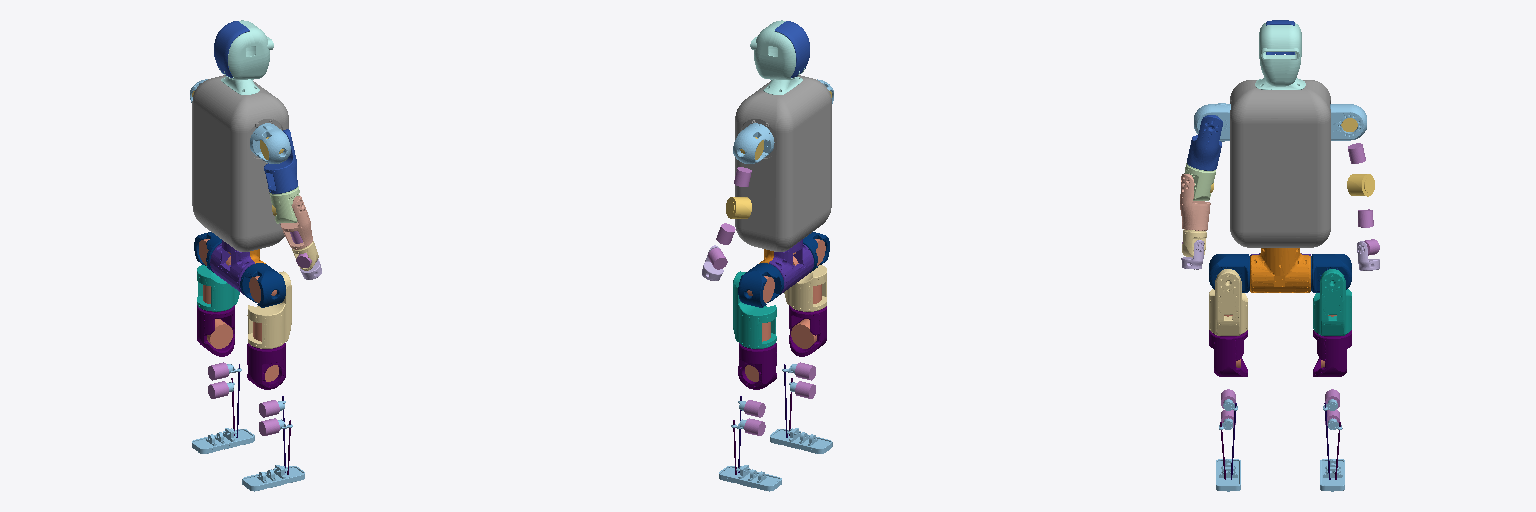
--- What the picture shows (computed from the rendered views, not written in the file) ---
3 views of the same robot in one strip: view 1: azimuth 30°, elevation 25°; view 2: azimuth 150°, elevation 25°; view 3: azimuth 270°, elevation 25° (orthographic).
Model robot_harambe_v0.3 with 26 links and 25 joints (25 revolute), rooted at urdf_base, posed every joint at zero.
Links seen in each view (by area): view 1: urdf_simplified_torso, urdf_r_upper_femur_assemby, urdf_lower_femur_assembly, urdf_hip_assembly_2, urdf_lower_femur_assembly_2, urdf_l_upper_femur_assembly, urdf_base, urdf_r_shoulder_assembly, urdf_r_upper_arm_assembly, urdf_r_upper_forearm_assembly, urdf_foot_assembly_2, urdf_foot_assembly (+4 smaller); view 2: urdf_simplified_torso, urdf_l_upper_femur_assembly, urdf_lower_femur_assembly_2, urdf_hip_assembly, urdf_lower_femur_assembly, urdf_r_upper_femur_assemby, urdf_base, urdf_l_shoulder_assembly, urdf_foot_assembly, urdf_foot_assembly_2, urdf_r_tibia_assembly, urdf_l_tibia_assembly (+1 smaller); view 3: urdf_simplified_torso, urdf_base, urdf_r_upper_femur_assemby, urdf_l_upper_femur_assembly, urdf_r_upper_arm_assembly, urdf_lower_femur_assembly_2, urdf_lower_femur_assembly, urdf_l_shoulder_assembly, urdf_r_upper_forearm_assembly, urdf_hip_assembly, urdf_hip_assembly_2, urdf_l_tibia_assembly (+6 smaller).
Link boxes in pixels (bbox=[...]): urdf_simplified_torso: bbox=[192, 20, 288, 251]; urdf_r_upper_femur_assemby: bbox=[247, 271, 291, 348]; urdf_lower_femur_assembly: bbox=[197, 305, 234, 356]; urdf_hip_assembly_2: bbox=[240, 263, 285, 307]; urdf_lower_femur_assembly_2: bbox=[247, 343, 285, 389]; urdf_l_upper_femur_assembly: bbox=[197, 265, 239, 311]; urdf_base: bbox=[210, 240, 265, 294]; urdf_r_shoulder_assembly: bbox=[250, 123, 290, 163]; urdf_r_upper_arm_assembly: bbox=[264, 129, 297, 193]; urdf_r_upper_forearm_assembly: bbox=[280, 196, 312, 249]; urdf_foot_assembly_2: bbox=[242, 465, 304, 491]; urdf_foot_assembly: bbox=[192, 428, 254, 453]; urdf_simplified_torso: bbox=[735, 20, 831, 251]; urdf_l_upper_femur_assembly: bbox=[733, 271, 776, 348]; urdf_lower_femur_assembly_2: bbox=[789, 305, 826, 356]; urdf_hip_assembly: bbox=[738, 263, 783, 307]; urdf_lower_femur_assembly: bbox=[738, 343, 776, 389]; urdf_r_upper_femur_assemby: bbox=[784, 265, 826, 311]; urdf_base: bbox=[759, 239, 813, 294]; urdf_l_shoulder_assembly: bbox=[733, 123, 774, 163]; urdf_foot_assembly: bbox=[719, 465, 781, 491]; urdf_foot_assembly_2: bbox=[770, 428, 832, 453]; urdf_r_tibia_assembly: bbox=[782, 362, 815, 437]; urdf_l_tibia_assembly: bbox=[731, 396, 765, 474]; urdf_simplified_torso: bbox=[1230, 20, 1330, 247]; urdf_base: bbox=[1250, 248, 1310, 292]; urdf_r_upper_femur_assemby: bbox=[1209, 269, 1247, 335]; urdf_l_upper_femur_assembly: bbox=[1313, 269, 1351, 335]; urdf_r_upper_arm_assembly: bbox=[1187, 115, 1222, 170]; urdf_lower_femur_assembly_2: bbox=[1209, 330, 1247, 376]; urdf_lower_femur_assembly: bbox=[1313, 330, 1351, 376]; urdf_l_shoulder_assembly: bbox=[1330, 104, 1366, 140]; urdf_r_upper_forearm_assembly: bbox=[1180, 174, 1210, 230]; urdf_hip_assembly: bbox=[1311, 254, 1351, 292]; urdf_hip_assembly_2: bbox=[1209, 254, 1249, 292]; urdf_l_tibia_assembly: bbox=[1323, 389, 1342, 479].
Size in the robot's own frame: 0.2769 by 0.7097 by 1.77 metres.
52 mesh visuals loaded from 31 distinct referenced files (24 binary STL); not drawn: 8 (reference not matched to a file when rendering).

robot.urdf — robot_harambe_v0.3:
<?xml version='1.0' encoding='utf-8'?>
<robot name="robot_harambe_v0.3">
  <link name="urdf_base">
    <inertial>
      <origin xyz="0.0334604 -0.000699269 -0.431702" rpy="0 0 0" />
      <mass value="5.132" />
      <inertia ixx="0.0288848" ixy="2.35276e-07" ixz="-2.88595e-05" iyy="0.0213139" iyz="-6.5838e-06" izz="0.0155352" />
    </inertial>
    <visual>
      <origin xyz="0.0333787 0.0103011 -0.467748" rpy="-1.5708 0.785398 0" />
      <geometry>
        <mesh filename="package://assets/stator_x8_p20_120_unified.stl" />
      </geometry>
      <material name="stator_x8_p20_120_unified_material">
        <color rgba="0.882353 0.572549 0.478431 1" />
      </material>
    </visual>
    <collision>
      <origin xyz="0.0333787 0.0103011 -0.467748" rpy="-1.5708 0.785398 0" />
      <geometry>
        <mesh filename="package://assets/stator_x8_p20_120_unified.stl" />
      </geometry>
    </collision>
    <visual>
      <origin xyz="-0.00271429 -0.000697952 -0.432504" rpy="0 0 -1.5708" />
      <geometry>
        <mesh filename="package://assets/b_base.stl" />
      </geometry>
      <material name="b_base_material">
        <color rgba="0.368627 0.25098 0.643137 1" />
      </material>
    </visual>
    <collision>
      <origin xyz="-0.00271429 -0.000697952 -0.432504" rpy="0 0 -1.5708" />
      <geometry>
        <mesh filename="package://assets/b_base.stl" />
      </geometry>
    </collision>
    <visual>
      <origin xyz="0.0333787 -0.0116989 -0.467748" rpy="1.5708 -0.785398 0" />
      <geometry>
        <mesh filename="package://assets/stator_x8_p20_120_unified.stl" />
      </geometry>
      <material name="stator_x8_p20_120_unified_2_material">
        <color rgba="0.882353 0.572549 0.478431 1" />
      </material>
    </visual>
    <collision>
      <origin xyz="0.0333787 -0.0116989 -0.467748" rpy="1.5708 -0.785398 0" />
      <geometry>
        <mesh filename="package://assets/stator_x8_p20_120_unified.stl" />
      </geometry>
    </collision>
    <visual>
      <origin xyz="0.0333787 -0.000698852 -0.396748" rpy="0 0 -1.5708" />
      <geometry>
        <mesh filename="package://assets/stator_x8_p20_120_unified.stl" />
      </geometry>
      <material name="stator_x8_p20_120_unified_3_material">
        <color rgba="0.882353 0.572549 0.478431 1" />
      </material>
    </visual>
    <collision>
      <origin xyz="0.0333787 -0.000698852 -0.396748" rpy="0 0 -1.5708" />
      <geometry>
        <mesh filename="package://assets/stator_x8_p20_120_unified.stl" />
      </geometry>
    </collision>
    <visual>
      <origin xyz="0.070373 -0.000705351 -0.431099" rpy="0 0 -1.5708" />
      <geometry>
        <mesh filename="package://assets/f_base.stl" />
      </geometry>
      <material name="f_base_material">
        <color rgba="0.909804 0.572549 0.164706 1" />
      </material>
    </visual>
    <collision>
      <origin xyz="0.070373 -0.000705351 -0.431099" rpy="0 0 -1.5708" />
      <geometry>
        <mesh filename="package://assets/f_base.stl" />
      </geometry>
    </collision>
  </link>
  <link name="urdf_simplified_torso">
    <inertial>
      <origin xyz="0.00199118 -4.1776e-05 0.327574" rpy="0 0 0" />
      <mass value="5.9" />
      <inertia ixx="0.320832" ixy="5.08517e-07" ixz="-0.00443482" iyy="0.294153" iyz="9.68158e-05" izz="0.076931" />
    </inertial>
    <visual>
      <origin xyz="0 0 0.26095" rpy="0 0 -1.5708" />
      <geometry>
        <mesh filename="package://assets/urdf_simplified_torso.stl" />
      </geometry>
      <material name="urdf_simplified_torso_material">
        <color rgba="0.647059 0.647059 0.647059 1" />
      </material>
    </visual>
    <collision>
      <origin xyz="0 0 0.26095" rpy="0 0 -1.5708" />
      <geometry>
        <mesh filename="package://assets/urdf_simplified_torso.stl" />
      </geometry>
    </collision>
    <visual>
      <origin xyz="4.03711e-05 -0.000382221 0.67095" rpy="0 0 -1.5708" />
      <geometry>
        <mesh filename="package://assets/head.stl" />
      </geometry>
      <material name="head_material">
        <color rgba="0.737255 0.937255 0.917647 1" />
      </material>
    </visual>
    <collision>
      <origin xyz="4.03711e-05 -0.000382221 0.67095" rpy="0 0 -1.5708" />
      <geometry>
        <mesh filename="package://assets/head.stl" />
      </geometry>
    </collision>
    <visual>
      <origin xyz="4.03711e-05 -0.000382221 0.672878" rpy="0 0 -1.5708" />
      <geometry>
        <mesh filename="package://assets/back_access.stl" />
      </geometry>
      <material name="back_access_material">
        <color rgba="0.231373 0.380392 0.705882 1" />
      </material>
    </visual>
    <collision>
      <origin xyz="4.03711e-05 -0.000382221 0.672878" rpy="0 0 -1.5708" />
      <geometry>
        <mesh filename="package://assets/back_access.stl" />
      </geometry>
    </collision>
  </link>
  <link name="urdf_l_shoulder_assembly">
    <inertial>
      <origin xyz="-0.00409836 0.0631966 -0.000544496" rpy="0 0 0" />
      <mass value="1.246" />
      <inertia ixx="0.00205876" ixy="-3.48871e-05" ixz="4.11941e-05" iyy="0.00152408" iyz="-7.63836e-06" izz="0.00171602" />
    </inertial>
    <visual>
      <origin xyz="-0.00129022 0.0502746 -0.000165436" rpy="0.122174 0 -1.5708" />
      <geometry>
        <mesh filename="package://assets/l_shoulder.stl" />
      </geometry>
      <material name="l_shoulder_material">
        <color rgba="0.615686 0.811765 0.929412 1" />
      </material>
    </visual>
    <collision>
      <origin xyz="-0.00129022 0.0502746 -0.000165436" rpy="0.122174 0 -1.5708" />
      <geometry>
        <mesh filename="package://assets/l_shoulder.stl" />
      </geometry>
    </collision>
    <visual>
      <origin xyz="-0.038213 0.07 -0.00469197" rpy="-1.44862 0 -1.5708" />
      <geometry>
        <mesh filename="package://assets/stator_x6_p20_60_unified.stl" />
      </geometry>
      <material name="stator_x6_p20_60_unified_material">
        <color rgba="0.960784 0.835294 0.470588 1" />
      </material>
    </visual>
    <collision>
      <origin xyz="-0.038213 0.07 -0.00469197" rpy="-1.44862 0 -1.5708" />
      <geometry>
        <mesh filename="package://assets/stator_x6_p20_60_unified.stl" />
      </geometry>
    </collision>
  </link>
  <link name="urdf_l_upper_arm_assembly">
    <inertial>
      <origin xyz="-0.0354438 0.0213179 -0.103332" rpy="0 0 0" />
      <mass value="0.802" />
      <inertia ixx="0.00190836" ixy="8.88394e-05" ixz="-0.000467525" iyy="0.00203106" iyz="0.000183108" izz="0.00107639" />
    </inertial>
    <visual>
      <origin xyz="-0.0268697 0.0182146 -0.0914677" rpy="0.149185 0.147548 -0.774352" />
      <geometry>
        <mesh filename="package://assets/urdf_l_upper_arm_simplified.stl" />
      </geometry>
      <material name="urdf_l_upper_arm_simplified_material">
        <color rgba="0.917647 0.917647 0.917647 1" />
      </material>
    </visual>
    <collision>
      <origin xyz="-0.0268697 0.0182146 -0.0914677" rpy="0.149185 0.147548 -0.774352" />
      <geometry>
        <mesh filename="package://assets/urdf_l_upper_arm_simplified.stl" />
      </geometry>
    </collision>
    <visual>
      <origin xyz="-0.046 0.0189197 -0.0890115" rpy="2.99241 0.147548 -2.36724" />
      <geometry>
        <mesh filename="package://assets/stator_x4_p36_36_unified.stl" />
      </geometry>
      <material name="stator_x4_p36_36_unified_material">
        <color rgba="0.764706 0.545098 0.803922 1" />
      </material>
    </visual>
    <collision>
      <origin xyz="-0.046 0.0189197 -0.0890115" rpy="2.99241 0.147548 -2.36724" />
      <geometry>
        <mesh filename="package://assets/stator_x4_p36_36_unified.stl" />
      </geometry>
    </collision>
  </link>
  <link name="urdf_l_elbow_assembly">
    <inertial>
      <origin xyz="-0.00454375 -0.00631726 -0.0710681" rpy="0 0 0" />
      <mass value="1.109" />
      <inertia ixx="0.00144951" ixy="5.63858e-05" ixz="-2.92807e-05" iyy="0.00147477" iyz="-7.46143e-05" izz="0.00113761" />
    </inertial>
    <visual>
      <origin xyz="-0.0243093 -0.036675 -0.075" rpy="-1.57079 1.57079 -0.585342" />
      <geometry>
        <mesh filename="package://assets/stator_x6_p20_60_unified.stl" />
      </geometry>
      <material name="stator_x6_p20_60_unified_2_material">
        <color rgba="0.960784 0.835294 0.470588 1" />
      </material>
    </visual>
    <collision>
      <origin xyz="-0.0243093 -0.036675 -0.075" rpy="-1.57079 1.57079 -0.585342" />
      <geometry>
        <mesh filename="package://assets/stator_x6_p20_60_unified.stl" />
      </geometry>
    </collision>
    <visual>
      <origin xyz="-0.00676793 -0.0102107 -0.075" rpy="1.57079 1.57079 -0.585342" />
      <geometry>
        <mesh filename="package://assets/urdf_l_elbow_simplified.stl" />
      </geometry>
      <material name="urdf_l_elbow_simplified_material">
        <color rgba="0.231373 0.380392 0.705882 1" />
      </material>
    </visual>
    <collision>
      <origin xyz="-0.00676793 -0.0102107 -0.075" rpy="1.57079 1.57079 -0.585342" />
      <geometry>
        <mesh filename="package://assets/urdf_l_elbow_simplified.stl" />
      </geometry>
    </collision>
  </link>
  <link name="urdf_l_upper_forearm_assembly">
    <inertial>
      <origin xyz="0.0267134 -0.0286559 -0.0999185" rpy="0 0 0" />
      <mass value="0.707" />
      <inertia ixx="0.00162524" ixy="9.29314e-05" ixz="0.000226907" iyy="0.00146156" iyz="-0.000353662" izz="0.000776912" />
    </inertial>
    <visual>
      <origin xyz="0.0285993 -0.035 -0.115512" rpy="0.242706 0 -1.5708" />
      <geometry>
        <mesh filename="package://assets/urdf_l_upper_forearm_simplified.stl" />
      </geometry>
      <material name="urdf_l_upper_forearm_simplified_material">
        <color rgba="0.498039 0.498039 0.498039 1" />
      </material>
    </visual>
    <collision>
      <origin xyz="0.0285993 -0.035 -0.115512" rpy="0.242706 0 -1.5708" />
      <geometry>
        <mesh filename="package://assets/urdf_l_upper_forearm_simplified.stl" />
      </geometry>
    </collision>
    <visual>
      <origin xyz="0.0216297 -0.035 -0.0873622" rpy="-2.89888 0 -1.5708" />
      <geometry>
        <mesh filename="package://assets/stator_x4_p36_36_unified.stl" />
      </geometry>
      <material name="stator_x4_p36_36_unified_2_material">
        <color rgba="0.764706 0.545098 0.803922 1" />
      </material>
    </visual>
    <collision>
      <origin xyz="0.0216297 -0.035 -0.0873622" rpy="-2.89888 0 -1.5708" />
      <geometry>
        <mesh filename="package://assets/stator_x4_p36_36_unified.stl" />
      </geometry>
    </collision>
  </link>
  <link name="urdf_l_lower_forearm_assembly">
    <inertial>
      <origin xyz="-0.00311766 0.00307025 -0.0515634" rpy="0 0 0" />
      <mass value="0.618" />
      <inertia ixx="0.000628386" ixy="-1.68352e-06" ixz="-2.8195e-05" iyy="0.000617293" iyz="-3.24976e-07" izz="0.000448744" />
    </inertial>
    <visual>
      <origin xyz="-0.00732538 0.00522865 -0.0615" rpy="-1.5708 0 0.95089" />
      <geometry>
        <mesh filename="package://assets/urdf_l_lower_forearm_simplified.stl" />
      </geometry>
      <material name="urdf_l_lower_forearm_simplified_material">
        <color rgba="0.980392 0.713725 0.00392157 1" />
      </material>
    </visual>
    <collision>
      <origin xyz="-0.00732538 0.00522865 -0.0615" rpy="-1.5708 0 0.95089" />
      <geometry>
        <mesh filename="package://assets/urdf_l_lower_forearm_simplified.stl" />
      </geometry>
    </collision>
    <visual>
      <origin xyz="-0.0305224 0.021786 -0.0615" rpy="1.5708 0 0.95089" />
      <geometry>
        <mesh filename="package://assets/stator_x4_p36_36_unified.stl" />
      </geometry>
      <material name="stator_x4_p36_36_unified_3_material">
        <color rgba="0.764706 0.545098 0.803922 1" />
      </material>
    </visual>
    <collision>
      <origin xyz="-0.0305224 0.021786 -0.0615" rpy="1.5708 0 0.95089" />
      <geometry>
        <mesh filename="package://assets/stator_x4_p36_36_unified.stl" />
      </geometry>
    </collision>
  </link>
  <link name="urdf_l_wrist_assembly">
    <inertial>
      <origin xyz="-0.0219307 0.0106848 -0.0421315" rpy="0 0 0" />
      <mass value="0.098" />
      <inertia ixx="0.000100785" ixy="8.2018e-06" ixz="-3.23731e-05" iyy="0.000121426" iyz="6.79903e-06" izz="9.63529e-05" />
    </inertial>
    <visual>
      <origin xyz="-0.0219314 0.0106848 -0.0421315" rpy="0 0.248271 -1.5708" />
      <geometry>
        <mesh filename="package://assets/l_wrist.stl" />
      </geometry>
      <material name="l_wrist_material">
        <color rgba="0.8 0.74902 0.913725 1" />
      </material>
    </visual>
    <collision>
      <origin xyz="-0.0219314 0.0106848 -0.0421315" rpy="0 0.248271 -1.5708" />
      <geometry>
        <mesh filename="package://assets/l_wrist.stl" />
      </geometry>
    </collision>
  </link>
  <joint name="left_wrist_roll_joint_X4" type="revolute">
    <origin xyz="0.0219762 -0.0156859 -0.0615" rpy="-0.248271 0 -0.619909" />
    <parent link="urdf_l_lower_forearm_assembly" />
    <child link="urdf_l_wrist_assembly" />
    <axis xyz="1 0 0" />
    <limit effort="10" velocity="10" lower="-1.5708" upper="1.5708" />
  </joint>
  <joint name="left_wrist_yaw_joint_X4" type="revolute">
    <origin xyz="0.0391738 -0.035 -0.158223" rpy="-0.142861 -0.19688 0.634041" />
    <parent link="urdf_l_upper_forearm_assembly" />
    <child link="urdf_l_lower_forearm_assembly" />
    <axis xyz="0 0 1" />
    <limit effort="10" velocity="10" lower="-2.35619" upper="2.35619" />
  </joint>
  <joint name="left_elbow_pitch_joint_X6" type="revolute">
    <origin xyz="0.019337 0.0291733 -0.075" rpy="0 -0.0190902 -0.585348" />
    <parent link="urdf_l_elbow_assembly" />
    <child link="urdf_l_upper_forearm_assembly" />
    <axis xyz="0 1 0" />
    <limit effort="10" velocity="10" lower="-1.309" upper="1.8326" />
  </joint>
  <joint name="left_shoulder_yaw_joint_X4" type="revolute">
    <origin xyz="-0.046 0.0343048 -0.161394" rpy="0.209376 0.00530409 -0.0249664" />
    <parent link="urdf_l_upper_arm_assembly" />
    <child link="urdf_l_elbow_assembly" />
    <axis xyz="0 0 1" />
    <limit effort="10" velocity="10" lower="-1.74533" upper="2.96706" />
  </joint>
  <joint name="left_shoulder_roll_joint_X6" type="revolute">
    <origin xyz="0.0456571 0.07 0.00560599" rpy="0 -0.122173 0" />
    <parent link="urdf_l_shoulder_assembly" />
    <child link="urdf_l_upper_arm_assembly" />
    <axis xyz="1 0 0" />
    <limit effort="10" velocity="10" lower="-0.20944" upper="2.93215" />
  </joint>
  <joint name="left_shoulder_pitch_joint_X6" type="revolute">
    <origin xyz="0 0.1755 0.423977" rpy="0 0 0" />
    <parent link="urdf_simplified_torso" />
    <child link="urdf_l_shoulder_assembly" />
    <axis xyz="0 1 0" />
    <limit effort="10" velocity="10" lower="-3.01942" upper="1.69297" />
  </joint>
  <link name="urdf_r_shoulder_assembly">
    <inertial>
      <origin xyz="-0.0047018 -0.0660727 -0.000602814" rpy="0 0 0" />
      <mass value="1.02" />
      <inertia ixx="0.0013257" ixy="1.37507e-05" ixz="2.16639e-05" iyy="0.00104972" iyz="3.46307e-06" izz="0.0011458" />
    </inertial>
    <visual>
      <origin xyz="-0.038213 -0.07 -0.00469197" rpy="-1.44862 0 -1.5708" />
      <geometry>
        <mesh filename="package://assets/stator_x6_p20_60_unified.stl" />
      </geometry>
      <material name="stator_x6_p20_60_unified_3_material">
        <color rgba="0.960784 0.835294 0.470588 1" />
      </material>
    </visual>
    <collision>
      <origin xyz="-0.038213 -0.07 -0.00469197" rpy="-1.44862 0 -1.5708" />
      <geometry>
        <mesh filename="package://assets/stator_x6_p20_60_unified.stl" />
      </geometry>
    </collision>
    <visual>
      <origin xyz="-0.00128021 -0.0501448 -0.000164153" rpy="0.122174 0 -1.5708" />
      <geometry>
        <mesh filename="package://assets/r_shoulder.stl" />
      </geometry>
      <material name="r_shoulder_material">
        <color rgba="0.615686 0.811765 0.929412 1" />
      </material>
    </visual>
    <collision>
      <origin xyz="-0.00128021 -0.0501448 -0.000164153" rpy="0.122174 0 -1.5708" />
      <geometry>
        <mesh filename="package://assets/r_shoulder.stl" />
      </geometry>
    </collision>
  </link>
  <link name="urdf_r_upper_arm_assembly">
    <inertial>
      <origin xyz="-0.0347331 -0.0216406 -0.101809" rpy="0 0 0" />
      <mass value="0.802" />
      <inertia ixx="0.00188605" ixy="-9.73961e-05" ixz="-0.00045821" iyy="0.00200295" iyz="-0.000209828" izz="0.00106039" />
    </inertial>
    <visual>
      <origin xyz="-0.046 -0.0189203 -0.0890113" rpy="3.14159 -0.209444 -1.5708" />
      <geometry>
        <mesh filename="package://assets/stator_x4_p36_36_unified.stl" />
      </geometry>
      <material name="stator_x4_p36_36_unified_4_material">
        <color rgba="0.764706 0.545098 0.803922 1" />
      </material>
    </visual>
    <collision>
      <origin xyz="-0.046 -0.0189203 -0.0890113" rpy="3.14159 -0.209444 -1.5708" />
      <geometry>
        <mesh filename="package://assets/stator_x4_p36_36_unified.stl" />
      </geometry>
    </collision>
    <visual>
      <origin xyz="-0.025543 -0.0188228 -0.088553" rpy="0 -0.209444 -1.5708" />
      <geometry>
        <mesh filename="package://assets/r_upper_arm.stl" />
      </geometry>
      <material name="r_upper_arm_material">
        <color rgba="0.231373 0.380392 0.705882 1" />
      </material>
    </visual>
    <collision>
      <origin xyz="-0.025543 -0.0188228 -0.088553" rpy="0 -0.209444 -1.5708" />
      <geometry>
        <mesh filename="package://assets/r_upper_arm.stl" />
      </geometry>
    </collision>
  </link>
  <link name="urdf_r_elbow_assembly">
    <inertial>
      <origin xyz="-0.00464629 0.00706688 -0.0612736" rpy="0 0 0" />
      <mass value="1.109" />
      <inertia ixx="0.00142737" ixy="-5.60372e-05" ixz="-3.53572e-05" iyy="0.00147543" iyz="4.92594e-05" izz="0.00111817" />
    </inertial>
    <visual>
      <origin xyz="0.000192865 -0.000269971 -0.0512953" rpy="0 0 -0.985454" />
      <geometry>
        <mesh filename="package://assets/r_elbow.stl" />
      </geometry>
      <material name="r_elbow_material">
        <color rgba="0.796078 0.905882 0.745098 1" />
      </material>
    </visual>
    <collision>
      <origin xyz="0.000192865 -0.000269971 -0.0512953" rpy="0 0 -0.985454" />
      <geometry>
        <mesh filename="package://assets/r_elbow.stl" />
      </geometry>
    </collision>
    <visual>
      <origin xyz="-0.0245856 0.0370918 -0.065" rpy="0.610863 -1.57079 1.54527" />
      <geometry>
        <mesh filename="package://assets/stator_x6_p20_60_unified.stl" />
      </geometry>
      <material name="stator_x6_p20_60_unified_4_material">
        <color rgba="0.960784 0.835294 0.470588 1" />
      </material>
    </visual>
    <collision>
      <origin xyz="-0.0245856 0.0370918 -0.065" rpy="0.610863 -1.57079 1.54527" />
      <geometry>
        <mesh filename="package://assets/stator_x6_p20_60_unified.stl" />
      </geometry>
    </collision>
  </link>
  <link name="urdf_r_upper_forearm_assembly">
    <inertial>
      <origin xyz="0.026678 0.0327896 -0.0982604" rpy="0 0 0" />
      <mass value="0.707" />
      <inertia ixx="0.00160609" ixy="-9.59574e-05" ixz="0.000238817" iyy="0.0014499" iyz="0.00033935" izz="0.000766588" />
    </inertial>
    <visual>
      <origin xyz="0.0216302 0.04 -0.0873621" rpy="-2.89888 0 -1.5708" />
      <geometry>
        <mesh filename="package://assets/stator_x4_p36_36_unified.stl" />
      </geometry>
      <material name="stator_x4_p36_36_unified_5_material">
        <color rgba="0.764706 0.545098 0.803922 1" />
      </material>
    </visual>
    <collision>
      <origin xyz="0.0216302 0.04 -0.0873621" rpy="-2.89888 0 -1.5708" />
      <geometry>
        <mesh filename="package://assets/stator_x4_p36_36_unified.stl" />
      </geometry>
    </collision>
    <visual>
      <origin xyz="0.0247718 0.0254856 -0.0806201" rpy="0.242716 0 -1.5708" />
      <geometry>
        <mesh filename="package://assets/r_upper_forearm.stl" />
      </geometry>
      <material name="r_upper_forearm_material">
        <color rgba="0.890196 0.698039 0.639216 1" />
      </material>
    </visual>
    <collision>
      <origin xyz="0.0247718 0.0254856 -0.0806201" rpy="0.242716 0 -1.5708" />
      <geometry>
        <mesh filename="package://assets/r_upper_forearm.stl" />
      </geometry>
    </collision>
  </link>
  <link name="urdf_r_lower_forearm_assembly">
    <inertial>
      <origin xyz="-0.00325453 -0.0023229 -0.046852" rpy="0 0 0" />
      <mass value="0.618" />
      <inertia ixx="0.000617744" ixy="-6.12409e-07" ixz="-3.11927e-05" iyy="0.000618165" iyz="-2.22632e-05" izz="0.000437775" />
    </inertial>
    <visual>
      <origin xyz="0.00167509 0.00119555 -0.0333447" rpy="0 0 -0.9509" />
      <geometry>
        <mesh filename="package://assets/r_lower_forearm.stl" />
      </geometry>
      <material name="r_lower_forearm_material">
        <color rgba="0.941176 0.87451 0.678431 1" />
      </material>
    </visual>
    <collision>
      <origin xyz="0.00167509 0.00119555 -0.0333447" rpy="0 0 -0.9509" />
      <geometry>
        <mesh filename="package://assets/r_lower_forearm.stl" />
      </geometry>
    </collision>
    <visual>
      <origin xyz="-0.0309297 -0.0220761 -0.0565" rpy="1.57079 0 2.19069" />
      <geometry>
        <mesh filename="package://assets/stator_x4_p36_36_unified.stl" />
      </geometry>
      <material name="stator_x4_p36_36_unified_6_material">
        <color rgba="0.764706 0.545098 0.803922 1" />
      </material>
    </visual>
    <collision>
      <origin xyz="-0.0309297 -0.0220761 -0.0565" rpy="1.57079 0 2.19069" />
      <geometry>
        <mesh filename="package://assets/stator_x4_p36_36_unified.stl" />
      </geometry>
    </collision>
  </link>
  <link name="urdf_r_wrist_assembly">
    <inertial>
      <origin xyz="-0.0219123 -0.0106791 -0.0421059" rpy="0 0 0" />
      <mass value="0.15" />
      <inertia ixx="0.000154293" ixy="-1.25539e-05" ixz="-4.95469e-05" iyy="0.000185908" iyz="-1.03835e-05" izz="0.00014762" />
    </inertial>
    <visual>
      <origin xyz="-0.0219316 -0.0106854 -0.0421314" rpy="0 -0.248281 -1.5708" />
      <geometry>
        <mesh filename="package://assets/r_wrist.stl" />
      </geometry>
      <material name="r_wrist_material">
        <color rgba="0.8 0.74902 0.913725 1" />
      </material>
    </visual>
    <collision>
      <origin xyz="-0.0219316 -0.0106854 -0.0421314" rpy="0 -0.248281 -1.5708" />
      <geometry>
        <mesh filename="package://assets/r_wrist.stl" />
      </geometry>
    </collision>
  </link>
  <joint name="right_wrist_roll_joint_X4" type="revolute">
    <origin xyz="0.0219763 0.0156857 -0.0565" rpy="0.248281 0 0.619897" />
    <parent link="urdf_r_lower_forearm_assembly" />
    <child link="urdf_r_wrist_assembly" />
    <axis xyz="1 0 0" />
    <limit effort="10" velocity="10" lower="-1.5708" upper="1.5708" />
  </joint>
  <joint name="right_wrist_yaw_joint_X4" type="revolute">
    <origin xyz="0.0403763 0.04 -0.163076" rpy="0.142857 -0.196885 -0.634033" />
    <parent link="urdf_r_upper_forearm_assembly" />
    <child link="urdf_r_lower_forearm_assembly" />
    <axis xyz="0 0 1" />
    <limit effort="10" velocity="10" lower="-2.35619" upper="2.35619" />
  </joint>
  <joint name="right_elbow_pitch_joint_X6" type="revolute">
    <origin xyz="0.0220994 -0.0333409 -0.065" rpy="0 -0.019088 0.585341" />
    <parent link="urdf_r_elbow_assembly" />
    <child link="urdf_r_upper_forearm_assembly" />
    <axis xyz="0 1 0" />
    <limit effort="10" velocity="10" lower="-1.309" upper="1.8326" />
  </joint>
  <joint name="right_shoulder_yaw_joint_X4" type="revolute">
    <origin xyz="-0.046 -0.0353456 -0.166285" rpy="-0.209378 0.00530246 0.0249661" />
    <parent link="urdf_r_upper_arm_assembly" />
    <child link="urdf_r_elbow_assembly" />
    <axis xyz="0 0 1" />
    <limit effort="10" velocity="10" lower="-2.96706" upper="1.74533" />
  </joint>
  <joint name="right_shoulder_roll_joint_X6" type="revolute">
    <origin xyz="0.0456571 -0.07 0.00560599" rpy="0 -0.122173 0" />
    <parent link="urdf_r_shoulder_assembly" />
    <child link="urdf_r_upper_arm_assembly" />
    <axis xyz="1 0 0" />
    <limit effort="10" velocity="10" lower="-2.93215" upper="0.20944" />
  </joint>
  <joint name="right_shoulder_pitch_joint_X6" type="revolute">
    <origin xyz="0 -0.1755 0.423977" rpy="0 0 0" />
    <parent link="urdf_simplified_torso" />
    <child link="urdf_r_shoulder_assembly" />
    <axis xyz="0 1 0" />
    <limit effort="10" velocity="10" lower="-3.01942" upper="1.69297" />
  </joint>
  <joint name="waist_yaw_joint" type="revolute">
    <origin xyz="0.0333787 -0.000698852 -0.300748" rpy="0 0 0" />
    <parent link="urdf_base" />
    <child link="urdf_simplified_torso" />
    <axis xyz="0 0 1" />
    <limit effort="10" velocity="10" lower="-1.5708" upper="1.5708" />
  </joint>
  <link name="urdf_hip_assembly">
    <inertial>
      <origin xyz="-0.00420762 0.0689982 -6.23945e-06" rpy="0 0 0" />
      <mass value="1.73" />
      <inertia ixx="0.00302301" ixy="2.30858e-05" ixz="4.5747e-08" iyy="0.00228746" iyz="-8.49179e-07" izz="0.00263533" />
    </inertial>
    <visual>
      <origin xyz="0.00253653 0.0520203 -3.27638e-05" rpy="0 0 -1.5708" />
      <geometry>
        <mesh filename="package://assets/hip.stl" />
      </geometry>
      <material name="hip_material">
        <color rgba="0.0627451 0.266667 0.490196 1" />
      </material>
    </visual>
    <collision>
      <origin xyz="0.00253653 0.0520203 -3.27638e-05" rpy="0 0 -1.5708" />
      <geometry>
        <mesh filename="package://assets/hip.stl" />
      </geometry>
    </collision>
    <visual>
      <origin xyz="-0.043 0.073 0" rpy="1.5708 0 1.5708" />
      <geometry>
        <mesh filename="package://assets/stator_x8_p20_120_unified.stl" />
      </geometry>
      <material name="stator_x8_p20_120_unified_4_material">
        <color rgba="0.882353 0.572549 0.478431 1" />
      </material>
    </visual>
    <collision>
      <origin xyz="-0.043 0.073 0" rpy="1.5708 0 1.5708" />
      <geometry>
        <mesh filename="package://assets/stator_x8_p20_120_unified.stl" />
      </geometry>
    </collision>
  </link>
  <link name="urdf_l_upper_femur_assembly">
    <inertial>
      <origin xyz="-0.0457109 0.000405477 -0.147969" rpy="0 0 0" />
      <mass value="1.912" />
      <inertia ixx="0.00512969" ixy="1.18492e-06" ixz="-0.000930002" iyy="0.00557257" iyz="-5.18841e-05" izz="0.00336728" />
    </inertial>
    <visual>
      <origin xyz="-0.0257799 0.00151581 -0.111785" rpy="0 0 -1.5708" />
      <geometry>
        <mesh filename="package://assets/l_upper_femur.stl" />
      </geometry>
      <material name="l_upper_femur_material">
        <color rgba="0.141176 0.694118 0.65098 1" />
      </material>
    </visual>
    <collision>
      <origin xyz="-0.0257799 0.00151581 -0.111785" rpy="0 0 -1.5708" />
      <geometry>
        <mesh filename="package://assets/l_upper_femur.stl" />
      </geometry>
    </collision>
    <visual>
      <origin xyz="-0.053 -4.55477e-07 -0.124" rpy="3.14159 0 -1.5708" />
      <geometry>
        <mesh filename="package://assets/stator_x8_p20_120_unified.stl" />
      </geometry>
      <material name="stator_x8_p20_120_unified_5_material">
        <color rgba="0.882353 0.572549 0.478431 1" />
      </material>
    </visual>
    <collision>
      <origin xyz="-0.053 -4.55477e-07 -0.124" rpy="3.14159 0 -1.5708" />
      <geometry>
        <mesh filename="package://assets/stator_x8_p20_120_unified.stl" />
      </geometry>
    </collision>
  </link>
  <link name="urdf_lower_femur_assembly">
    <inertial>
      <origin xyz="-1.0389e-08 -0.00357383 -0.103307" rpy="0 0 0" />
      <mass value="1.817" />
      <inertia ixx="0.00383469" ixy="-2.5e-11" ixz="-2.1291e-08" iyy="0.00421827" iyz="-0.00019709" izz="0.00258541" />
    </inertial>
    <visual>
      <origin xyz="5.752e-09 0.00389134 -0.070766" rpy="0 0 -1.5708" />
      <geometry>
        <mesh filename="package://assets/lower_femur.stl" />
      </geometry>
      <material name="lower_femur_material">
        <color rgba="0.380392 0.0470588 0.435294 1" />
      </material>
    </visual>
    <collision>
      <origin xyz="5.752e-09 0.00389134 -0.070766" rpy="0 0 -1.5708" />
      <geometry>
        <mesh filename="package://assets/lower_femur.stl" />
      </geometry>
    </collision>
    <visual>
      <origin xyz="0 -0.043 -0.113" rpy="3.14159 -1.57079 1.5708" />
      <geometry>
        <mesh filename="package://assets/stator_x8_p20_120_unified.stl" />
      </geometry>
      <material name="stator_x8_p20_120_unified_6_material">
        <color rgba="0.882353 0.572549 0.478431 1" />
      </material>
    </visual>
    <collision>
      <origin xyz="0 -0.043 -0.113" rpy="3.14159 -1.57079 1.5708" />
      <geometry>
        <mesh filename="package://assets/stator_x8_p20_120_unified.stl" />
      </geometry>
    </collision>
  </link>
  <link name="urdf_l_tibia_assembly">
    <inertial>
      <origin xyz="0.00463897 -0.0449177 -0.190721" rpy="0 0 0" />
      <mass value="6.45981" />
      <inertia ixx="0.0785879" ixy="0.000322141" ixz="0.00174711" iyy="0.0762229" iyz="-0.00887502" izz="0.0153456" />
    </inertial>
    <visual>
      <origin xyz="-0.0180006 -0.055 -0.16" rpy="-1.5708 0 -1.5708" />
      <geometry>
        <mesh filename="package://assets/stator_x4_p36_36_unified.stl" />
      </geometry>
      <material name="stator_x4_p36_36_unified_7_material">
        <color rgba="0.764706 0.545098 0.803922 1" />
      </material>
    </visual>
    <collision>
      <origin xyz="-0.0180006 -0.055 -0.16" rpy="-1.5708 0 -1.5708" />
      <geometry>
        <mesh filename="package://assets/stator_x4_p36_36_unified.stl" />
      </geometry>
    </collision>
    <visual>
      <origin xyz="-0.0180009 -0.055 -0.235" rpy="1.5708 0 1.5708" />
      <geometry>
        <mesh filename="package://assets/stator_x4_p36_36_unified.stl" />
      </geometry>
      <material name="stator_x4_p36_36_unified_8_material">
        <color rgba="0.764706 0.545098 0.803922 1" />
      </material>
    </visual>
    <collision>
      <origin xyz="-0.0180009 -0.055 -0.235" rpy="1.5708 0 1.5708" />
      <geometry>
        <mesh filename="package://assets/stator_x4_p36_36_unified.stl" />
      </geometry>
    </collision>
    <visual>
      <origin xyz="0.0844989 -0.0732971 -0.288554" rpy="0 0.0523563 -1.5708" />
      <geometry>
        <mesh filename="package://assets/m6_threaded_bar_300mm.stl" />
      </geometry>
      <material name="m6_threaded_bar_300mm_material">
        <color rgba="0.141176 0.0352941 0.396078 1" />
      </material>
    </visual>
    <collision>
      <origin xyz="0.0844989 -0.0732971 -0.288554" rpy="0 0.0523563 -1.5708" />
      <geometry>
        <mesh filename="package://assets/m6_threaded_bar_300mm.stl" />
      </geometry>
    </collision>
    <visual>
      <origin xyz="0.0537491 -0.055 -0.235" rpy="-3.14159 -0.0698163 -1.5708" />
      <geometry>
        <mesh filename="package://assets/urdf_spacer_x4.stl" />
      </geometry>
      <material name="urdf_spacer_x4_material">
        <color rgba="0.615686 0.811765 0.929412 1" />
      </material>
    </visual>
    <collision>
      <origin xyz="0.0537491 -0.055 -0.235" rpy="-3.14159 -0.0698163 -1.5708" />
      <geometry>
        <mesh filename="package://assets/urdf_spacer_x4.stl" />
      </geometry>
    </collision>
    <visual>
      <origin xyz="0.000678037 -0.0431371 -0.186264" rpy="0 0 -1.5708" />
      <geometry>
        <mesh filename="package://assets/urdf_l_tibia_assembly.stl" />
      </geometry>
      <material name="urdf_l_tibia_assembly_material">
        <color rgba="0.615686 0.811765 0.929412 1" />
      </material>
    </visual>
    <collision>
      <origin xyz="0.000678037 -0.0431371 -0.186264" rpy="0 0 -1.5708" />
      <geometry>
        <mesh filename="package://assets/urdf_l_tibia_assembly.stl" />
      </geometry>
    </collision>
    <visual>
      <origin xyz="0.0844988 -0.0363334 -0.326445" rpy="0 -0.0698163 -1.5708" />
      <geometry>
        <mesh filename="package://assets/m6_threaded_bar_225mm.stl" />
      </geometry>
      <material name="m6_threaded_bar_225mm_material">
        <color rgba="0.27451 0.0117647 0.317647 1" />
      </material>
    </visual>
    <collision>
      <origin xyz="0.0844988 -0.0363334 -0.326445" rpy="0 -0.0698163 -1.5708" />
      <geometry>
        <mesh filename="package://assets/m6_threaded_bar_225mm.stl" />
      </geometry>
    </collision>
    <visual>
      <origin xyz="0.0537494 -0.055 -0.16" rpy="0 -0.0523563 1.5708" />
      <geometry>
        <mesh filename="package://assets/urdf_spacer_x4.stl" />
      </geometry>
      <material name="urdf_spacer_x4_2_material">
        <color rgba="0.615686 0.811765 0.929412 1" />
      </material>
    </visual>
    <collision>
      <origin xyz="0.0537494 -0.055 -0.16" rpy="0 -0.0523563 1.5708" />
      <geometry>
        <mesh filename="package://assets/urdf_spacer_x4.stl" />
      </geometry>
    </collision>
  </link>
  <link name="urdf_ankle_assembly">
    <inertial>
      <origin xyz="-4.60715e-08 -0.004 -0.0125426" rpy="0 0 0" />
      <mass value="0.0818219" />
      <inertia ixx="1.69449e-05" ixy="1.31413e-26" ixz="-1.61786e-11" iyy="2.15245e-05" iyz="1.88667e-27" izz="1.25404e-05" />
    </inertial>
    <visual>
      <origin xyz="-4.60715e-08 -0.004 -0.0125426" rpy="0 0 -1.5708" />
      <geometry>
        <mesh filename="package://assets/urdf_ankle_assembly.stl" />
      </geometry>
      <material name="urdf_ankle_assembly_material">
        <color rgba="0.615686 0.811765 0.929412 1" />
      </material>
    </visual>
    <collision>
      <origin xyz="-4.60715e-08 -0.004 -0.0125426" rpy="0 0 -1.5708" />
      <geometry>
        <mesh filename="package://assets/urdf_ankle_assembly.stl" />
      </geometry>
    </collision>
  </link>
  <link name="urdf_foot_assembly">
    <inertial>
      <origin xyz="0.0427639 9.73e-10 -0.0209668" rpy="0 0 0" />
      <mass value="0.504" />
      <inertia ixx="0.000361698" ixy="-1.2e-11" ixz="-5.90887e-06" iyy="0.00202397" iyz="-1.6e-11" izz="0.00229243" />
    </inertial>
    <visual>
      <origin xyz="0.0427639 0 -0.0209668" rpy="0 0 -1.5708" />
      <geometry>
        <mesh filename="package://assets/urdf_foot_assembly.stl" />
      </geometry>
      <material name="urdf_foot_assembly_material">
        <color rgba="0.615686 0.811765 0.929412 1" />
      </material>
    </visual>
    <collision>
      <origin xyz="0.0427639 0 -0.0209668" rpy="0 0 -1.5708" />
      <geometry>
        <mesh filename="package://assets/urdf_foot_assembly.stl" />
      </geometry>
    </collision>
  </link>
  <joint name="left_ankle_roll_joint" type="revolute">
    <origin xyz="-0.0120001 -0.004 -0.028" rpy="0 0 0" />
    <parent link="urdf_ankle_assembly" />
    <child link="urdf_foot_assembly" />
    <axis xyz="1 0 0" />
    <limit effort="10" velocity="10" lower="-0.785398" upper="0.785398" />
  </joint>
  <joint name="left_ankle_pitch_joint" type="revolute">
    <origin xyz="-1.45092e-06 -0.051 -0.395" rpy="0 0 0" />
    <parent link="urdf_l_tibia_assembly" />
    <child link="urdf_ankle_assembly" />
    <axis xyz="0 1 0" />
    <limit effort="10" velocity="10" lower="-0.785398" upper="0.785398" />
  </joint>
  <joint name="left_knee_joint" type="revolute">
    <origin xyz="0 0.055 -0.113" rpy="0 0 0" />
    <parent link="urdf_lower_femur_assembly" />
    <child link="urdf_l_tibia_assembly" />
    <axis xyz="0 1 0" />
    <limit effort="10" velocity="10" lower="-0.174533" upper="1.5708" />
  </joint>
  <joint name="left_hip_yaw_joint" type="revolute">
    <origin xyz="-0.053 -7.97086e-07 -0.217" rpy="0 0 0" />
    <parent link="urdf_l_upper_femur_assembly" />
    <child link="urdf_lower_femur_assembly" />
    <axis xyz="0 0 1" />
    <limit effort="10" velocity="10" lower="-1.5708" upper="1.5708" />
  </joint>
  <joint name="left_hip_roll_joint" type="revolute">
    <origin xyz="0.055 0.073 0" rpy="0 0 0" />
    <parent link="urdf_hip_assembly" />
    <child link="urdf_l_upper_femur_assembly" />
    <axis xyz="1 0 0" />
    <limit effort="10" velocity="10" lower="-0.349066" upper="3.14159" />
  </joint>
  <joint name="left_hip_pitch_joint" type="revolute">
    <origin xyz="0.0333787 0.111301 -0.467748" rpy="0 0 0" />
    <parent link="urdf_base" />
    <child link="urdf_hip_assembly" />
    <axis xyz="0 1 0" />
    <limit effort="10" velocity="10" lower="-2.53073" upper="1.5708" />
  </joint>
  <link name="urdf_hip_assembly_2">
    <inertial>
      <origin xyz="-0.00420762 -0.0739982 6.23945e-06" rpy="0 0 0" />
      <mass value="1.73" />
      <inertia ixx="0.00302301" ixy="-2.30858e-05" ixz="-4.5747e-08" iyy="0.00228746" iyz="-8.49179e-07" izz="0.00263533" />
    </inertial>
    <visual>
      <origin xyz="0.00253653 -0.0570203 3.27638e-05" rpy="-3.14159 0 1.5708" />
      <geometry>
        <mesh filename="package://assets/hip.stl" />
      </geometry>
      <material name="hip_2_material">
        <color rgba="0.0627451 0.266667 0.490196 1" />
      </material>
    </visual>
    <collision>
      <origin xyz="0.00253653 -0.0570203 3.27638e-05" rpy="-3.14159 0 1.5708" />
      <geometry>
        <mesh filename="package://assets/hip.stl" />
      </geometry>
    </collision>
    <visual>
      <origin xyz="-0.043 -0.078 0" rpy="-1.57079 0 -1.5708" />
      <geometry>
        <mesh filename="package://assets/stator_x8_p20_120_unified.stl" />
      </geometry>
      <material name="stator_x8_p20_120_unified_7_material">
        <color rgba="0.882353 0.572549 0.478431 1" />
      </material>
    </visual>
    <collision>
      <origin xyz="-0.043 -0.078 0" rpy="-1.57079 0 -1.5708" />
      <geometry>
        <mesh filename="package://assets/stator_x8_p20_120_unified.stl" />
      </geometry>
    </collision>
  </link>
  <link name="urdf_r_upper_femur_assemby">
    <inertial>
      <origin xyz="-0.0457092 -0.000405162 -0.147963" rpy="0 0 0" />
      <mass value="1.912" />
      <inertia ixx="0.00513139" ixy="-1.24596e-06" ixz="-0.000930579" iyy="0.00557422" iyz="5.18318e-05" izz="0.00336736" />
    </inertial>
    <visual>
      <origin xyz="-0.0257733 -0.00151464 -0.111761" rpy="0 0 -1.5708" />
      <geometry>
        <mesh filename="package://assets/r_upper_femur.stl" />
      </geometry>
      <material name="r_upper_femur_material">
        <color rgba="0.941176 0.87451 0.678431 1" />
      </material>
    </visual>
    <collision>
      <origin xyz="-0.0257733 -0.00151464 -0.111761" rpy="0 0 -1.5708" />
      <geometry>
        <mesh filename="package://assets/r_upper_femur.stl" />
      </geometry>
    </collision>
    <visual>
      <origin xyz="-0.053 4.55477e-07 -0.124" rpy="3.14159 0 -1.5708" />
      <geometry>
        <mesh filename="package://assets/stator_x8_p20_120_unified.stl" />
      </geometry>
      <material name="stator_x8_p20_120_unified_8_material">
        <color rgba="0.882353 0.572549 0.478431 1" />
      </material>
    </visual>
    <collision>
      <origin xyz="-0.053 4.55477e-07 -0.124" rpy="3.14159 0 -1.5708" />
      <geometry>
        <mesh filename="package://assets/stator_x8_p20_120_unified.stl" />
      </geometry>
    </collision>
  </link>
  <link name="urdf_lower_femur_assembly_2">
    <inertial>
      <origin xyz="1.0389e-08 0.00357383 -0.103307" rpy="0 0 0" />
      <mass value="1.817" />
      <inertia ixx="0.00383469" ixy="-2.5e-11" ixz="2.1291e-08" iyy="0.00421827" iyz="0.00019709" izz="0.00258541" />
    </inertial>
    <visual>
      <origin xyz="-5.752e-09 -0.00389134 -0.070766" rpy="0 0 1.5708" />
      <geometry>
        <mesh filename="package://assets/lower_femur.stl" />
      </geometry>
      <material name="lower_femur_2_material">
        <color rgba="0.380392 0.0470588 0.435294 1" />
      </material>
    </visual>
    <collision>
      <origin xyz="-5.752e-09 -0.00389134 -0.070766" rpy="0 0 1.5708" />
      <geometry>
        <mesh filename="package://assets/lower_femur.stl" />
      </geometry>
    </collision>
    <visual>
      <origin xyz="0 0.043 -0.113" rpy="0 -1.57079 1.5708" />
      <geometry>
        <mesh filename="package://assets/stator_x8_p20_120_unified.stl" />
      </geometry>
      <material name="stator_x8_p20_120_unified_9_material">
        <color rgba="0.882353 0.572549 0.478431 1" />
      </material>
    </visual>
    <collision>
      <origin xyz="0 0.043 -0.113" rpy="0 -1.57079 1.5708" />
      <geometry>
        <mesh filename="package://assets/stator_x8_p20_120_unified.stl" />
      </geometry>
    </collision>
  </link>
  <link name="urdf_r_tibia_assembly">
    <inertial>
      <origin xyz="0.00463902 0.0449175 -0.190727" rpy="0 0 0" />
      <mass value="6.45984" />
      <inertia ixx="0.0785959" ixy="-0.000322085" ixz="0.00175009" iyy="0.0762312" iyz="0.0088755" izz="0.0153456" />
    </inertial>
    <visual>
      <origin xyz="0.0537498 0.055 -0.16" rpy="-3.14159 -0.0523563 -1.5708" />
      <geometry>
        <mesh filename="package://assets/urdf_spacer_x4.stl" />
      </geometry>
      <material name="urdf_spacer_x4_3_material">
        <color rgba="0.615686 0.811765 0.929412 1" />
      </material>
    </visual>
    <collision>
      <origin xyz="0.0537498 0.055 -0.16" rpy="-3.14159 -0.0523563 -1.5708" />
      <geometry>
        <mesh filename="package://assets/urdf_spacer_x4.stl" />
      </geometry>
    </collision>
    <visual>
      <origin xyz="0.0844997 0.0363483 -0.326658" rpy="0 0.0698163 -1.5708" />
      <geometry>
        <mesh filename="package://assets/m6_threaded_bar_225mm.stl" />
      </geometry>
      <material name="m6_threaded_bar_225mm_2_material">
        <color rgba="0.27451 0.0117647 0.317647 1" />
      </material>
    </visual>
    <collision>
      <origin xyz="0.0844997 0.0363483 -0.326658" rpy="0 0.0698163 -1.5708" />
      <geometry>
        <mesh filename="package://assets/m6_threaded_bar_225mm.stl" />
      </geometry>
    </collision>
    <visual>
      <origin xyz="0.0537498 0.055 -0.235" rpy="0 -0.0698163 1.5708" />
      <geometry>
        <mesh filename="package://assets/urdf_spacer_x4.stl" />
      </geometry>
      <material name="urdf_spacer_x4_4_material">
        <color rgba="0.615686 0.811765 0.929412 1" />
      </material>
    </visual>
    <collision>
      <origin xyz="0.0537498 0.055 -0.235" rpy="0 -0.0698163 1.5708" />
      <geometry>
        <mesh filename="package://assets/urdf_spacer_x4.stl" />
      </geometry>
    </collision>
    <visual>
      <origin xyz="0.000678616 0.0431372 -0.186264" rpy="0 0 -1.5708" />
      <geometry>
        <mesh filename="package://assets/urdf_r_tibia_assembly.stl" />
      </geometry>
      <material name="urdf_r_tibia_assembly_material">
        <color rgba="0.615686 0.811765 0.929412 1" />
      </material>
    </visual>
    <collision>
      <origin xyz="0.000678616 0.0431372 -0.186264" rpy="0 0 -1.5708" />
      <geometry>
        <mesh filename="package://assets/urdf_r_tibia_assembly.stl" />
      </geometry>
    </collision>
    <visual>
      <origin xyz="-0.0180002 0.055 -0.16" rpy="-1.5708 0 -1.5708" />
      <geometry>
        <mesh filename="package://assets/stator_x4_p36_36_unified.stl" />
      </geometry>
      <material name="stator_x4_p36_36_unified_9_material">
        <color rgba="0.764706 0.545098 0.803922 1" />
      </material>
    </visual>
    <collision>
      <origin xyz="-0.0180002 0.055 -0.16" rpy="-1.5708 0 -1.5708" />
      <geometry>
        <mesh filename="package://assets/stator_x4_p36_36_unified.stl" />
      </geometry>
    </collision>
    <visual>
      <origin xyz="0.0844997 0.0732859 -0.288767" rpy="0 -0.0523563 -1.5708" />
      <geometry>
        <mesh filename="package://assets/m6_threaded_bar_300mm.stl" />
      </geometry>
      <material name="m6_threaded_bar_300mm_2_material">
        <color rgba="0.141176 0.0352941 0.396078 1" />
      </material>
    </visual>
    <collision>
      <origin xyz="0.0844997 0.0732859 -0.288767" rpy="0 -0.0523563 -1.5708" />
      <geometry>
        <mesh filename="package://assets/m6_threaded_bar_300mm.stl" />
      </geometry>
    </collision>
    <visual>
      <origin xyz="-0.0180002 0.055 -0.235" rpy="1.5708 0 1.5708" />
      <geometry>
        <mesh filename="package://assets/stator_x4_p36_36_unified.stl" />
      </geometry>
      <material name="stator_x4_p36_36_unified_10_material">
        <color rgba="0.764706 0.545098 0.803922 1" />
      </material>
    </visual>
    <collision>
      <origin xyz="-0.0180002 0.055 -0.235" rpy="1.5708 0 1.5708" />
      <geometry>
        <mesh filename="package://assets/stator_x4_p36_36_unified.stl" />
      </geometry>
    </collision>
  </link>
  <link name="urdf_ankle_assembly_2">
    <inertial>
      <origin xyz="-1.27886e-08 -0.004 -0.0125426" rpy="0 0 0" />
      <mass value="0.0818219" />
      <inertia ixx="1.69449e-05" ixy="1.82098e-26" ixz="-4.4909e-12" iyy="2.15245e-05" iyz="8.34767e-27" izz="1.25404e-05" />
    </inertial>
    <visual>
      <origin xyz="-1.27886e-08 -0.004 -0.0125426" rpy="0 0 -1.5708" />
      <geometry>
        <mesh filename="package://assets/urdf_ankle_assembly.stl" />
      </geometry>
      <material name="urdf_ankle_assembly_2_material">
        <color rgba="0.615686 0.811765 0.929412 1" />
      </material>
    </visual>
    <collision>
      <origin xyz="-1.27886e-08 -0.004 -0.0125426" rpy="0 0 -1.5708" />
      <geometry>
        <mesh filename="package://assets/urdf_ankle_assembly.stl" />
      </geometry>
    </collision>
  </link>
  <link name="urdf_foot_assembly_2">
    <inertial>
      <origin xyz="0.0427639 1.55004e-07 -0.0209668" rpy="0 0 0" />
      <mass value="0.504" />
      <inertia ixx="0.000361698" ixy="3.1409e-11" ixz="-5.90887e-06" iyy="0.00202397" iyz="-1.98822e-09" izz="0.00229243" />
    </inertial>
    <visual>
      <origin xyz="0.0427639 1.53975e-07 -0.0209668" rpy="0 0 -1.5708" />
      <geometry>
        <mesh filename="package://assets/urdf_foot_assembly.stl" />
      </geometry>
      <material name="urdf_foot_assembly_2_material">
        <color rgba="0.615686 0.811765 0.929412 1" />
      </material>
    </visual>
    <collision>
      <origin xyz="0.0427639 1.53975e-07 -0.0209668" rpy="0 0 -1.5708" />
      <geometry>
        <mesh filename="package://assets/urdf_foot_assembly.stl" />
      </geometry>
    </collision>
  </link>
  <joint name="right_ankle_pitch_joint" type="revolute">
    <origin xyz="-0.012 -0.004 -0.028" rpy="0 0 0" />
    <parent link="urdf_ankle_assembly_2" />
    <child link="urdf_foot_assembly_2" />
    <axis xyz="1 0 0" />
    <limit effort="10" velocity="10" lower="-0.785398" upper="0.785398" />
  </joint>
  <joint name="right_ankle_roll_joint" type="revolute">
    <origin xyz="-4.02748e-07 0.059 -0.395" rpy="0 0 0" />
    <parent link="urdf_r_tibia_assembly" />
    <child link="urdf_ankle_assembly_2" />
    <axis xyz="0 1 0" />
    <limit effort="10" velocity="10" lower="-0.785398" upper="0.785398" />
  </joint>
  <joint name="right_knee_joint" type="revolute">
    <origin xyz="0 -0.055 -0.113" rpy="0 0 0" />
    <parent link="urdf_lower_femur_assembly_2" />
    <child link="urdf_r_tibia_assembly" />
    <axis xyz="0 1 0" />
    <limit effort="10" velocity="10" lower="-0.174533" upper="1.5708" />
  </joint>
  <joint name="right_hip_yaw_joint" type="revolute">
    <origin xyz="-0.053 7.97086e-07 -0.217" rpy="0 0 0" />
    <parent link="urdf_r_upper_femur_assemby" />
    <child link="urdf_lower_femur_assembly_2" />
    <axis xyz="0 0 1" />
    <limit effort="10" velocity="10" lower="-1.5708" upper="1.5708" />
  </joint>
  <joint name="right_hip_roll_joint" type="revolute">
    <origin xyz="0.055 -0.078 0" rpy="0 0 0" />
    <parent link="urdf_hip_assembly_2" />
    <child link="urdf_r_upper_femur_assemby" />
    <axis xyz="1 0 0" />
    <limit effort="10" velocity="10" lower="-3.14159" upper="0.349066" />
  </joint>
  <joint name="right_hip_pitch_joint" type="revolute">
    <origin xyz="0.0333787 -0.107699 -0.467748" rpy="0 0 0" />
    <parent link="urdf_base" />
    <child link="urdf_hip_assembly_2" />
    <axis xyz="0 1 0" />
    <limit effort="10" velocity="10" lower="-2.53073" upper="1.5708" />
  </joint>
</robot>
